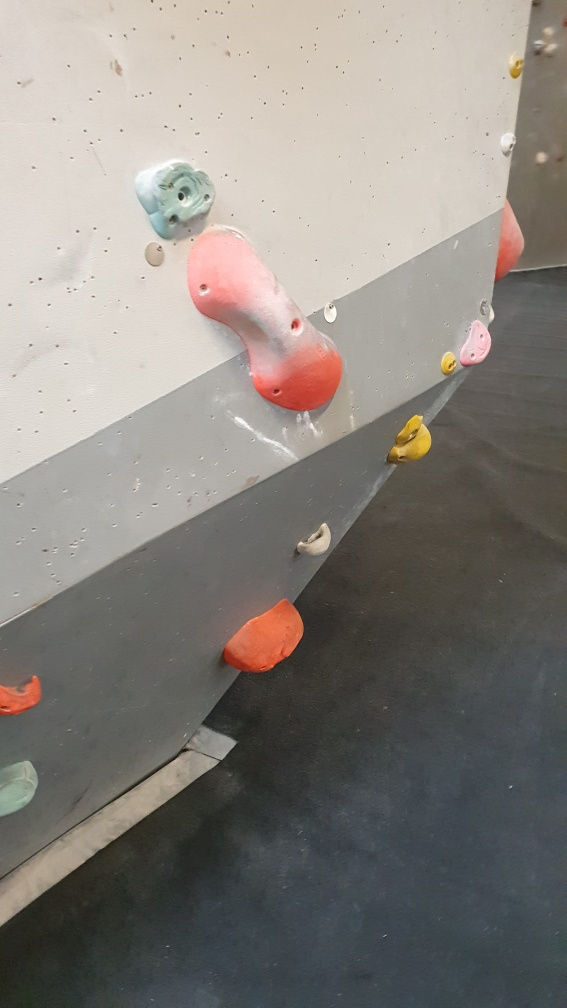Hand Start: (139, 236, 173, 272), (320, 299, 343, 327)
Jug: (1, 668, 47, 719), (290, 521, 333, 562)
Pinch: (186, 225, 347, 412)
